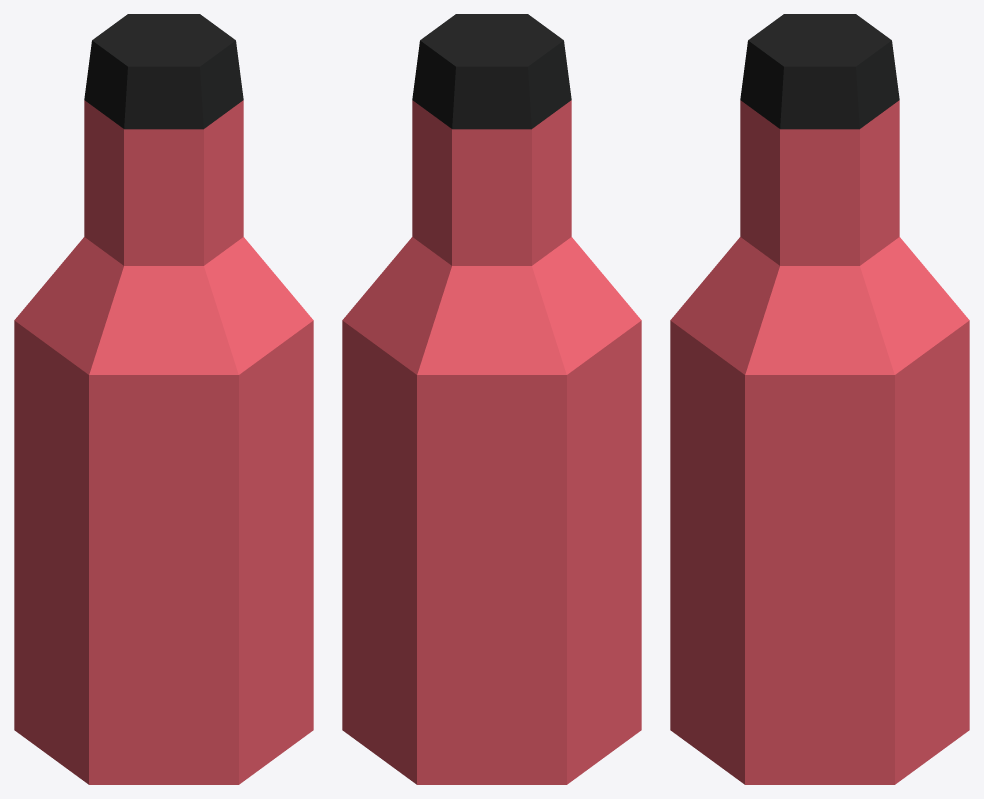
File: Bottle_1.fbx
The picture shows the model from 3 angles, left to right: view 1: azimuth 30°, elevation 25°; view 2: azimuth 150°, elevation 25°; view 3: azimuth 270°, elevation 25°; orthographic projection.
Parts seen in each view (by area): view 1: Bottle_1; view 2: Bottle_1; view 3: Bottle_1.
Boxes of the visible parts, bbox=[...] form: Bottle_1: bbox=[14, 14, 313, 784]; Bottle_1: bbox=[342, 14, 641, 784]; Bottle_1: bbox=[670, 14, 969, 784].
Bounding box in the file's own units: 15.43 × 45.3 × 17.82.
